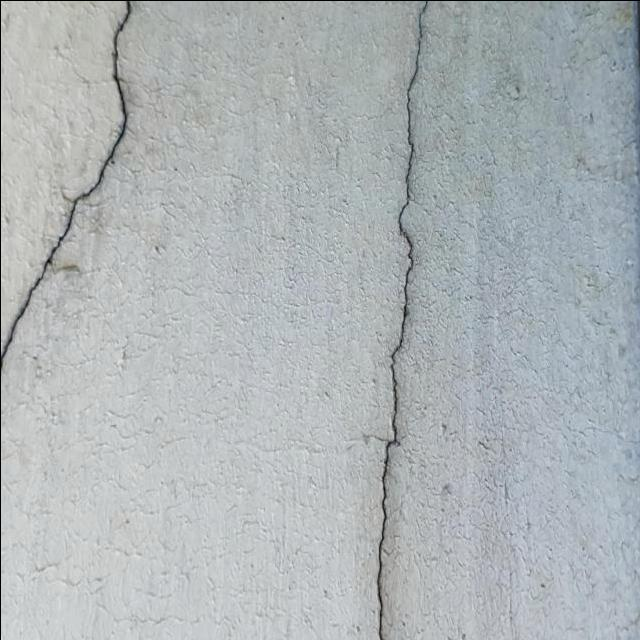SurfaceCrack: (0, 1, 163, 634), (330, 0, 466, 640)
